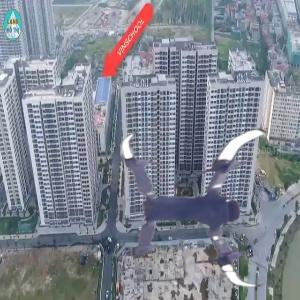drone: (118, 118, 300, 300)
